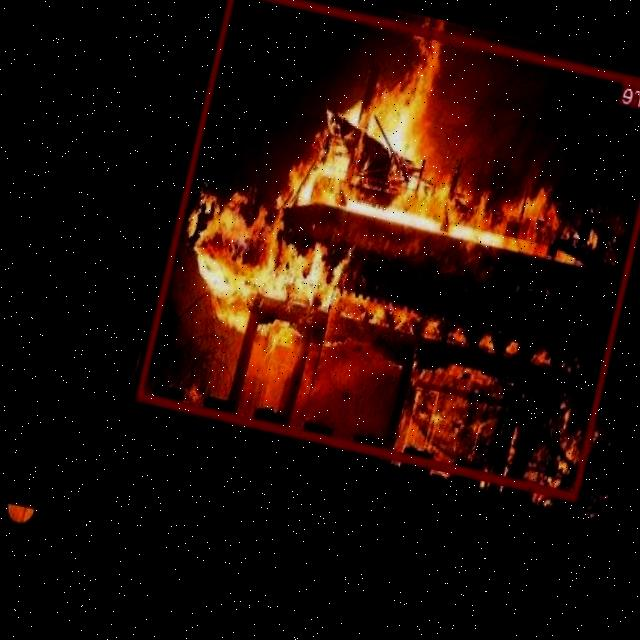fire: (136, 0, 640, 500)
